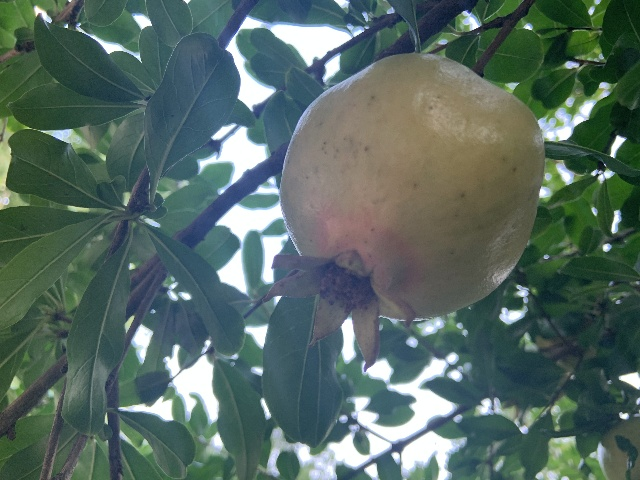mid-growth: (261, 53, 544, 372)
